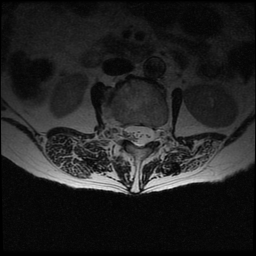CCS_normal: (134, 115, 143, 156)
LFS_normal: (153, 119, 164, 149)
LLS_normal: (143, 115, 153, 151)
RFS_normal: (116, 111, 125, 150)
RLS_normal: (125, 116, 134, 149)
